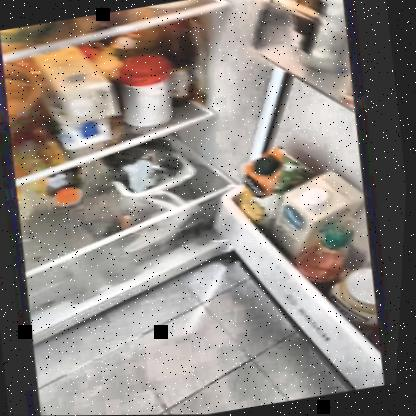broccoli: (108, 142, 194, 195)
milk: (32, 44, 125, 147), (280, 173, 342, 252)
